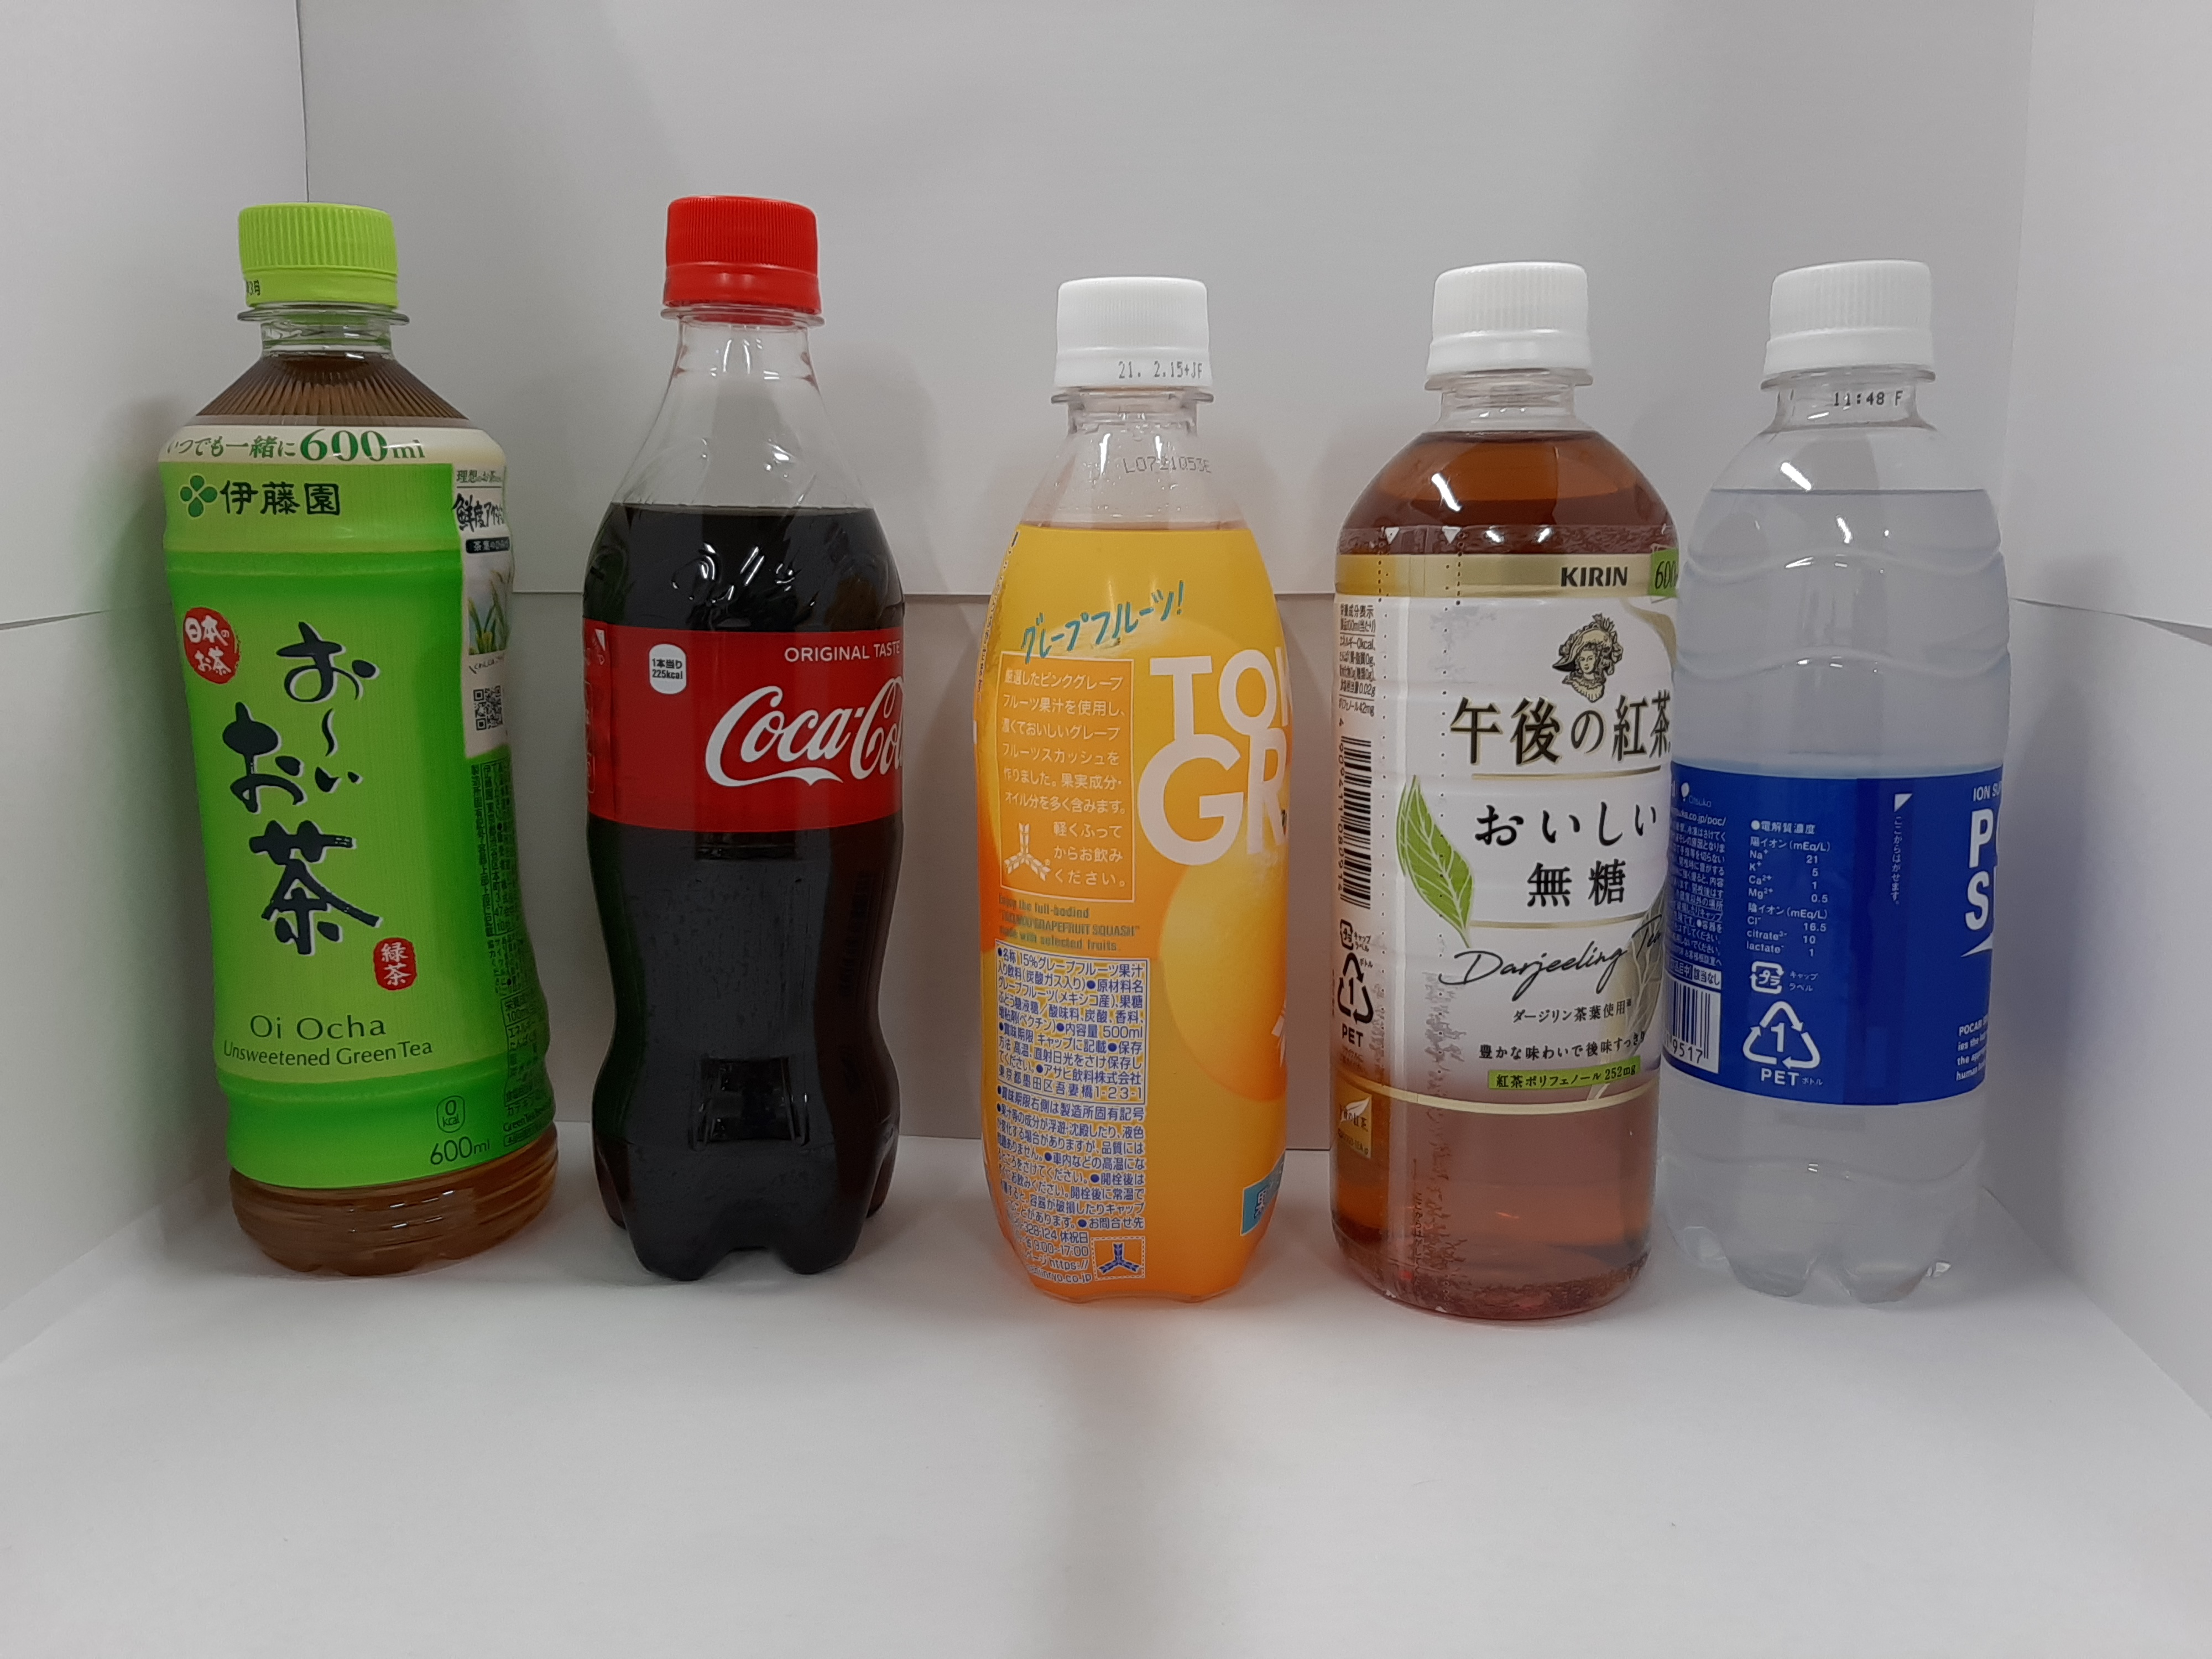おーいお茶: (117, 166, 577, 1316)
グレープフルーツスカッシュ: (951, 228, 1317, 1342)
コーラ: (538, 155, 932, 1326)
ポカリスエット: (1681, 225, 2026, 1340)
午後の紅茶: (1298, 242, 1681, 1371)
